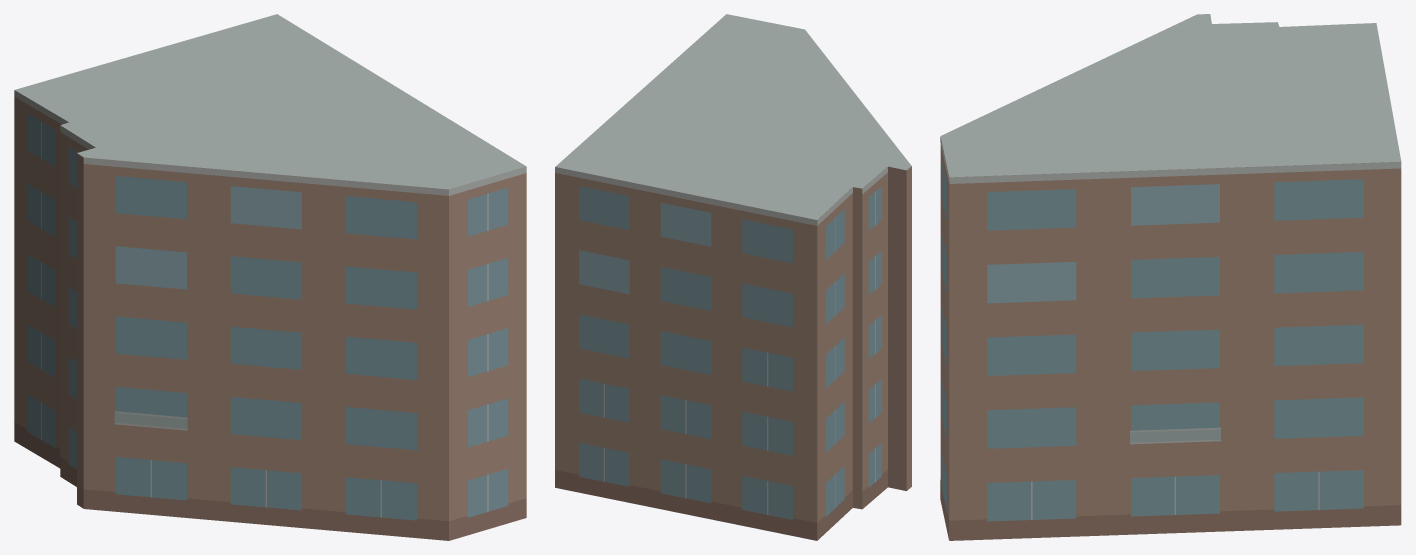
Rendered from survey-upis-32928790.glb.
3 renders of one model, left to right at view 1: azimuth 30°, elevation 25°; view 2: azimuth 150°, elevation 25°; view 3: azimuth 270°, elevation 25°, orthographic. The views are drawn at different scales.
Parts seen in each view (by area): view 1: survey-upis-32928790.tmp; view 2: survey-upis-32928790.tmp; view 3: survey-upis-32928790.tmp.
Part boxes in pixels (x1,y1,x2,y2): survey-upis-32928790.tmp: (14, 14, 526, 540); survey-upis-32928790.tmp: (555, 14, 911, 540); survey-upis-32928790.tmp: (940, 14, 1401, 540).
Bounding box in the file's own units: 12.73 × 13.2 × 15.18.
